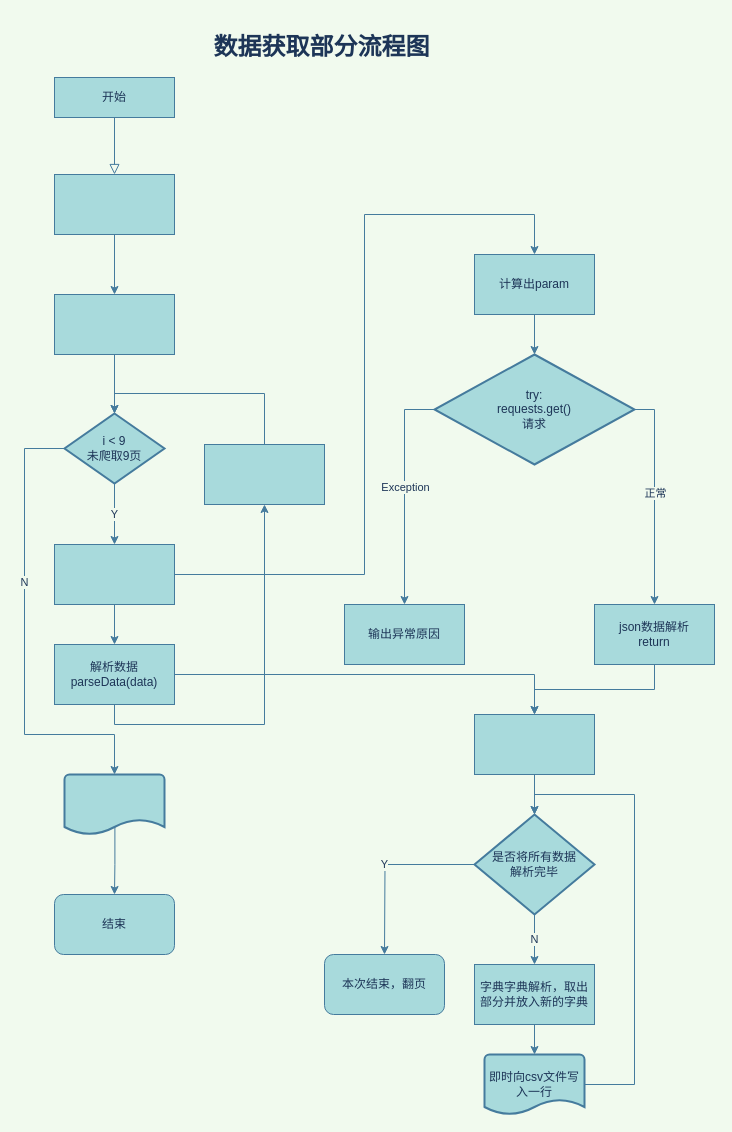
The diagram is 732 pixels wide and 1132 high, and some of its shapes have lost their labels. Here are the shapes that lost their labels. From the top down, the box of each, then its label:
(54, 174, 174, 234): 新建csv文件， 并写入表头
(54, 294, 174, 354): 读取第一页， 初始化i=0
(204, 444, 324, 504): 翻页 i ++
(54, 544, 174, 604): 请求数据 requestData(q,page)
(474, 714, 594, 774): json数据解包
(63, 773, 165, 835): 保存到csv文件 自动释放资源
